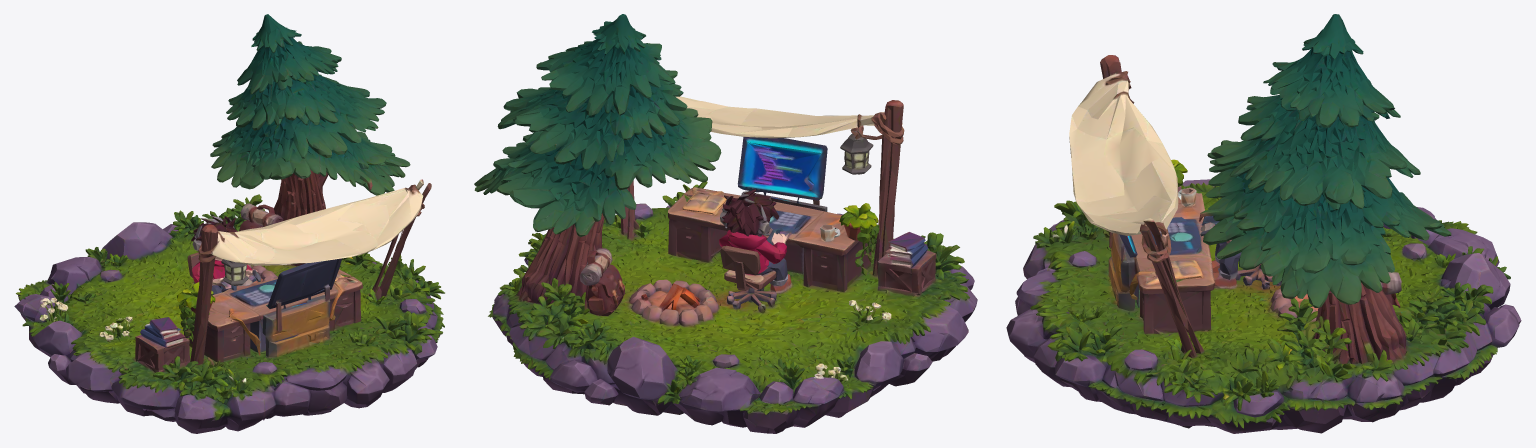
3 renders of one model, left to right at view 1: azimuth 30°, elevation 25°; view 2: azimuth 150°, elevation 25°; view 3: azimuth 270°, elevation 25°, orthographic. The views are drawn at different scales.
Visible parts, largest first — view 1: output_unwrapped; view 2: output_unwrapped; view 3: output_unwrapped.
Boxes of the visible parts, x1,y1,x2,y2 form: output_unwrapped: (14,14,444,433); output_unwrapped: (474,14,977,433); output_unwrapped: (1006,14,1521,433).
Bounding box in the file's own units: 1.9 × 1.48 × 1.86.
1 material, 1 textured.
